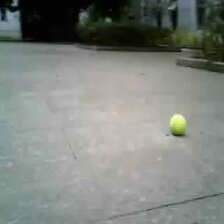tennis: (169, 114, 185, 134)
